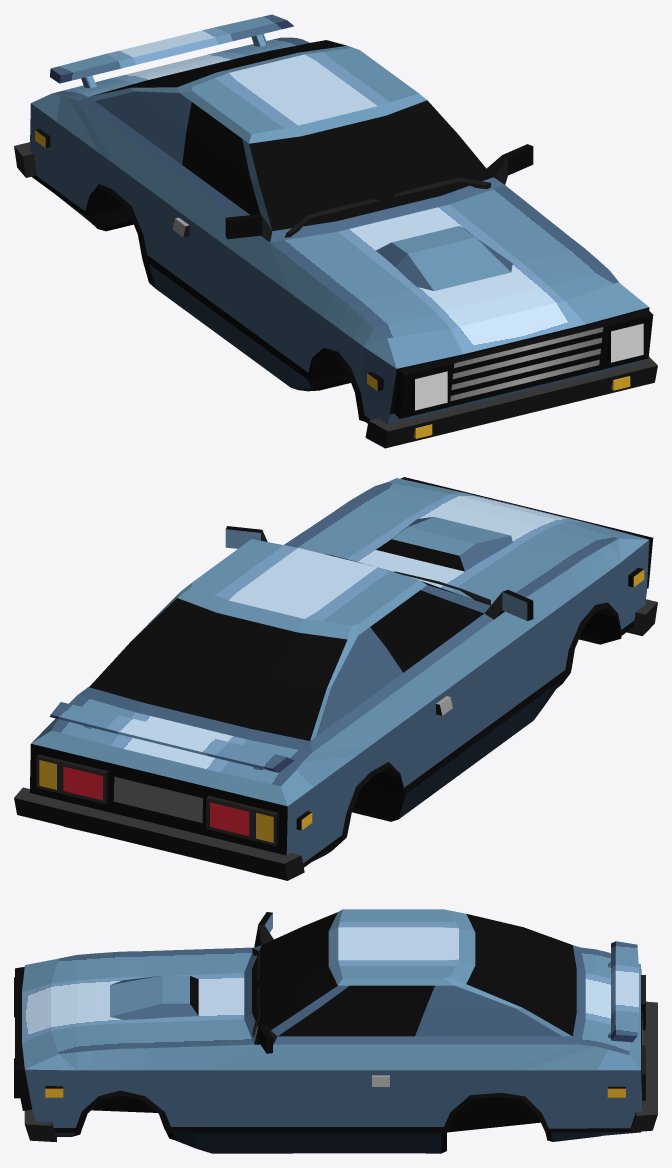
Rendered from SportCar.000.fbx.
The picture shows the model from 3 angles, top to bottom: view 1: azimuth 30°, elevation 25°; view 2: azimuth 150°, elevation 25°; view 3: azimuth 270°, elevation 25°; orthographic projection. The views are drawn at different scales.
Visible parts, largest first — view 1: SportCar.000; view 2: SportCar.000; view 3: SportCar.000.
Part boxes in pixels (x1,y1,x2,y2): SportCar.000: [14, 14, 657, 448]; SportCar.000: [14, 477, 657, 880]; SportCar.000: [14, 909, 657, 1153].
Bounding box in the file's own units: 1.75 × 1.05 × 3.77.
